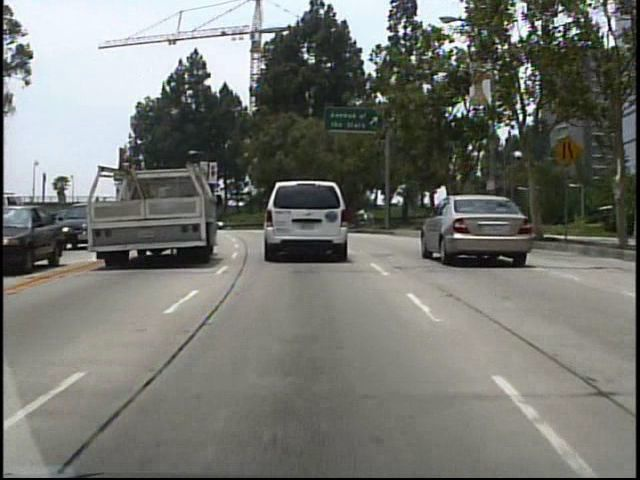person: (460, 193, 479, 238)
